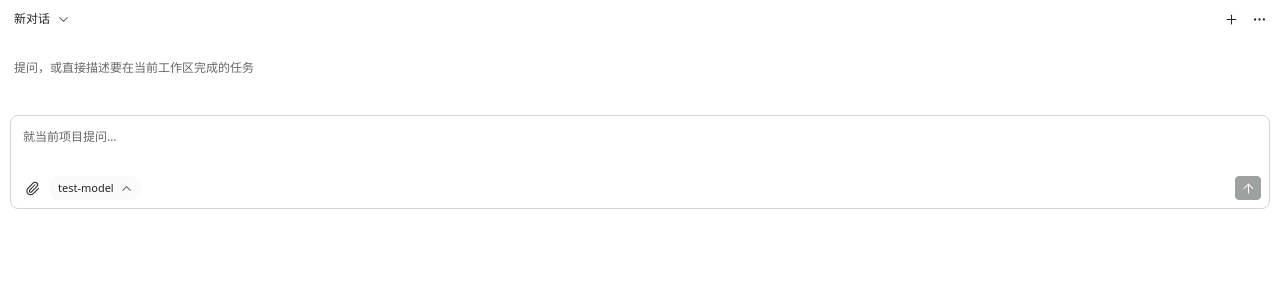
reports service failures explicitly and keeps the saved question available for retry
The image size is (1280, 305).
Type "解释一下" into the text box named "向 AI 提问". click: (640, 150)
box: [19,124,1261,176]
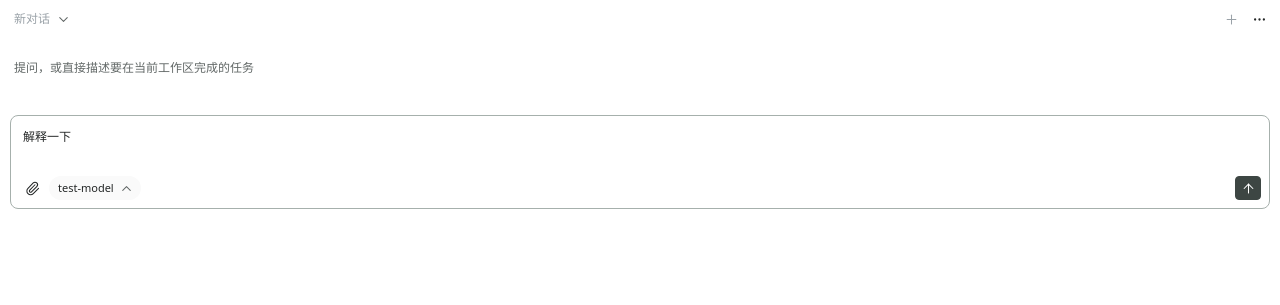
Click the button named "发送". click: click(1248, 188)
box: [1235,176,1261,200]
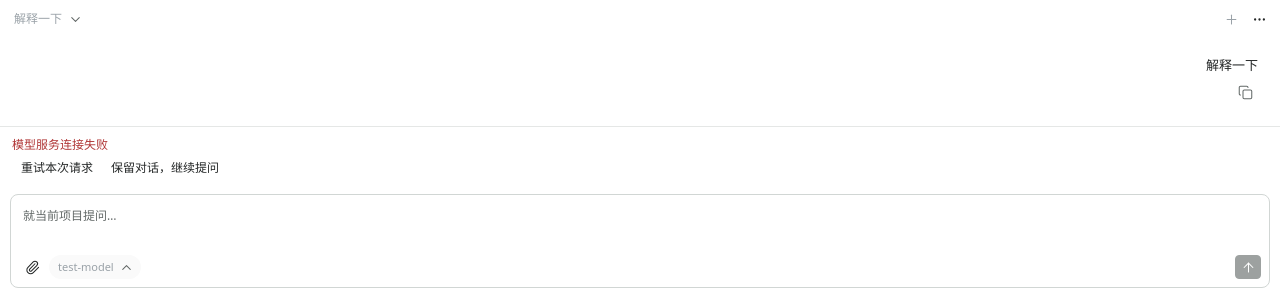
Expected: the text "模型服务连接失败" is shown, [12,136,108,153]
Expected: the button "重试本次请求" is shown, [12,154,102,180]
